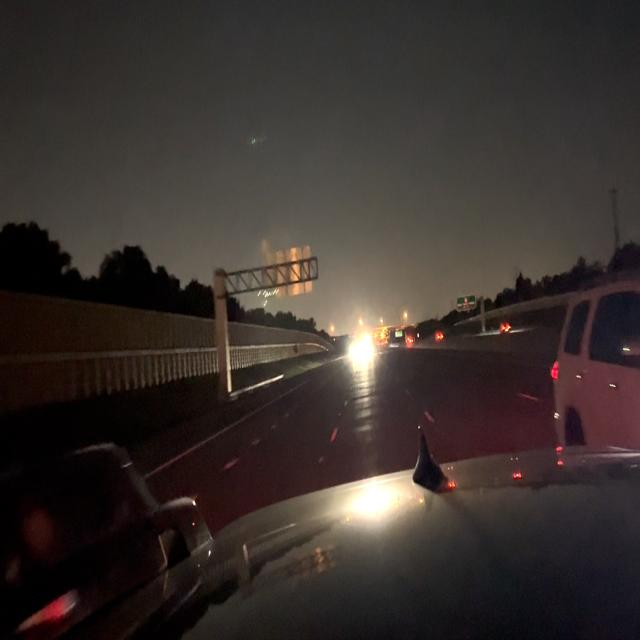back-of-sign: (265, 247, 312, 299)
